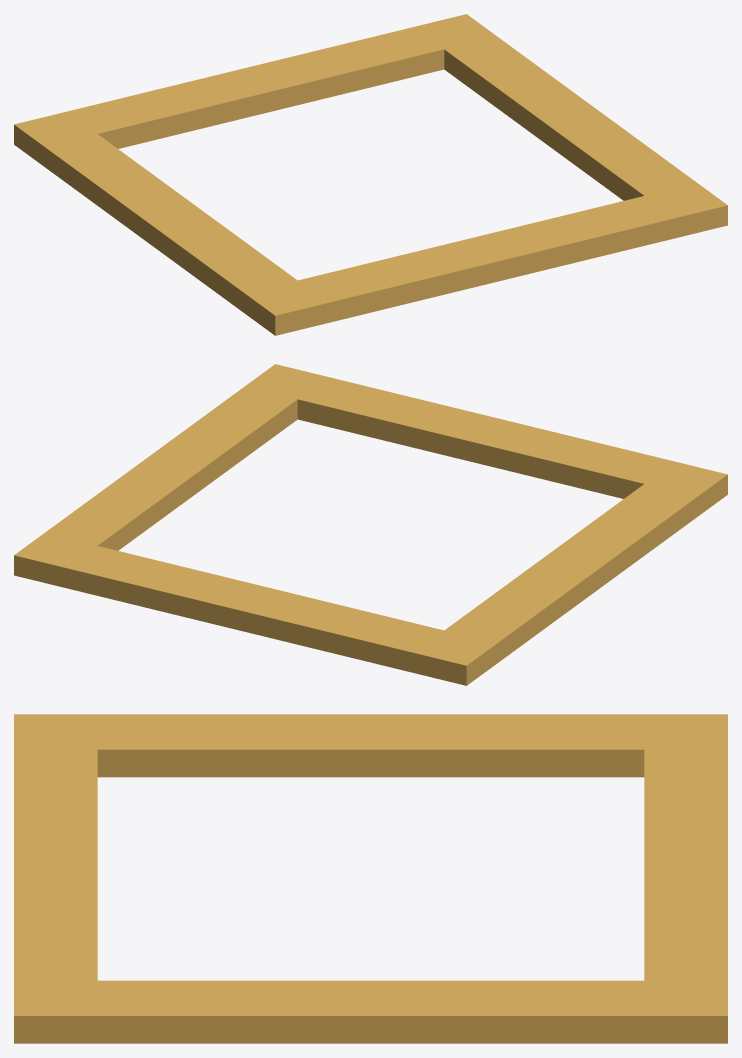
Rendered from marker.glb.
3 views of the same model, one above another, from view 1: azimuth 30°, elevation 25°; view 2: azimuth 150°, elevation 25°; view 3: azimuth 270°, elevation 25° (orthographic). The views are drawn at different scales.
Visible parts, largest first — view 1: marker; view 2: marker; view 3: marker.
Boxes of the visible parts, x1,y1,x2,y2 form: marker: (14, 14, 727, 335); marker: (14, 364, 727, 685); marker: (14, 714, 727, 1043).
Size of the model in its own units: 0.94 by 0.04 by 0.94.
